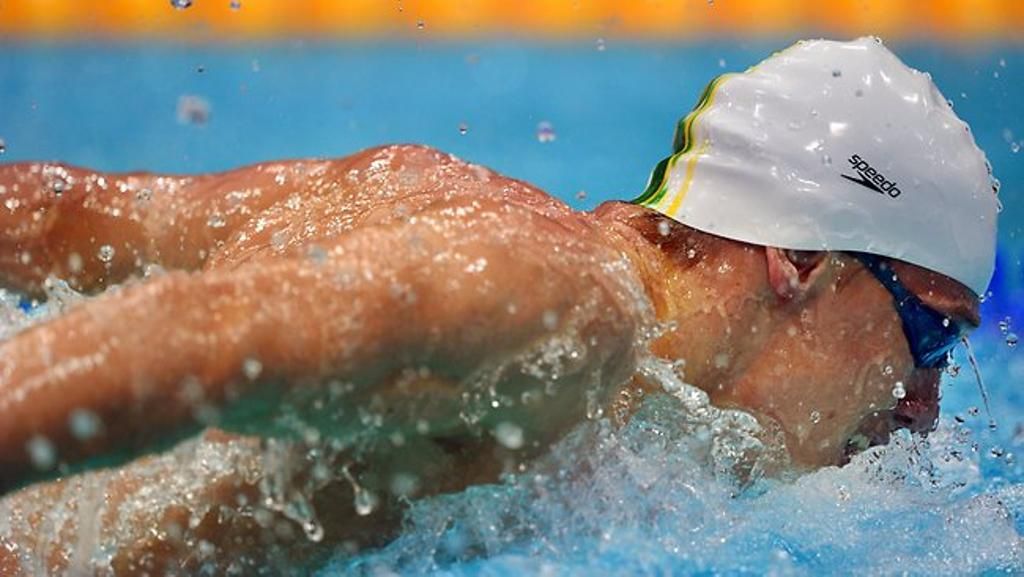face: (786, 198, 996, 482)
